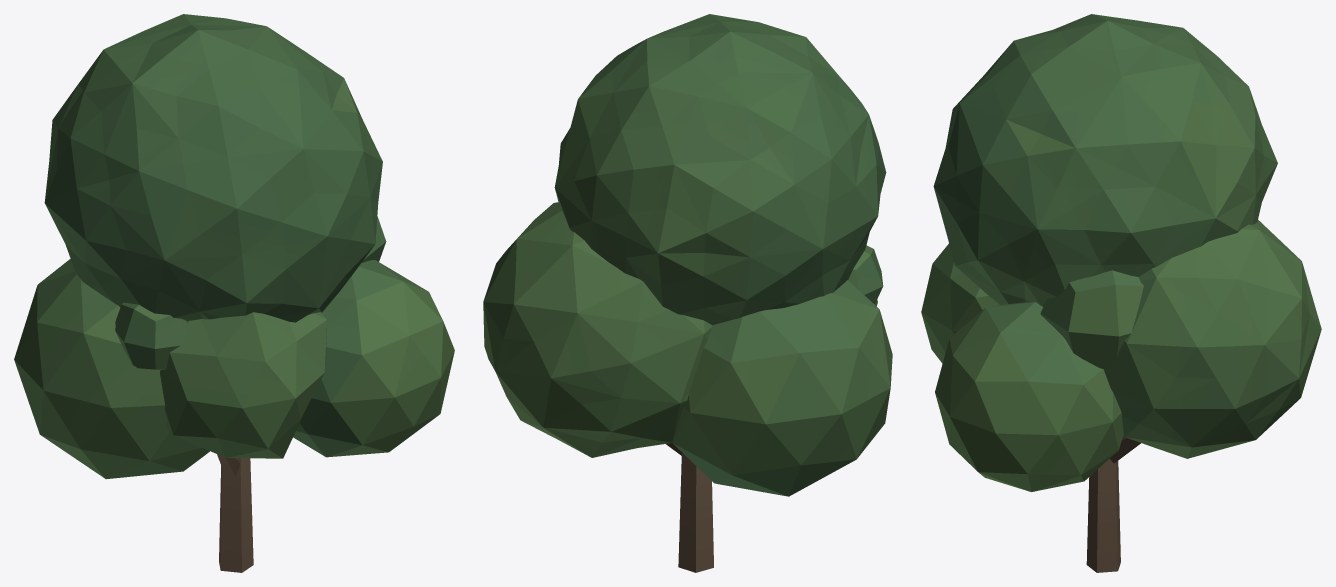
The model's file is limetree.gltf.
The picture shows the model from 3 angles, left to right: view 1: azimuth 30°, elevation 25°; view 2: azimuth 150°, elevation 25°; view 3: azimuth 270°, elevation 25°; orthographic projection. The views are drawn at different scales.
Visible parts, largest first — view 1: tree-lime; view 2: tree-lime; view 3: tree-lime.
Part boxes in pixels (x1,y1,x2,y2): tree-lime: [14, 14, 454, 572]; tree-lime: [483, 14, 892, 572]; tree-lime: [921, 14, 1321, 572].
Bounding box in the file's own units: 10.93 × 15.71 × 10.79.
Materials: 1 (1 with a texture image).
